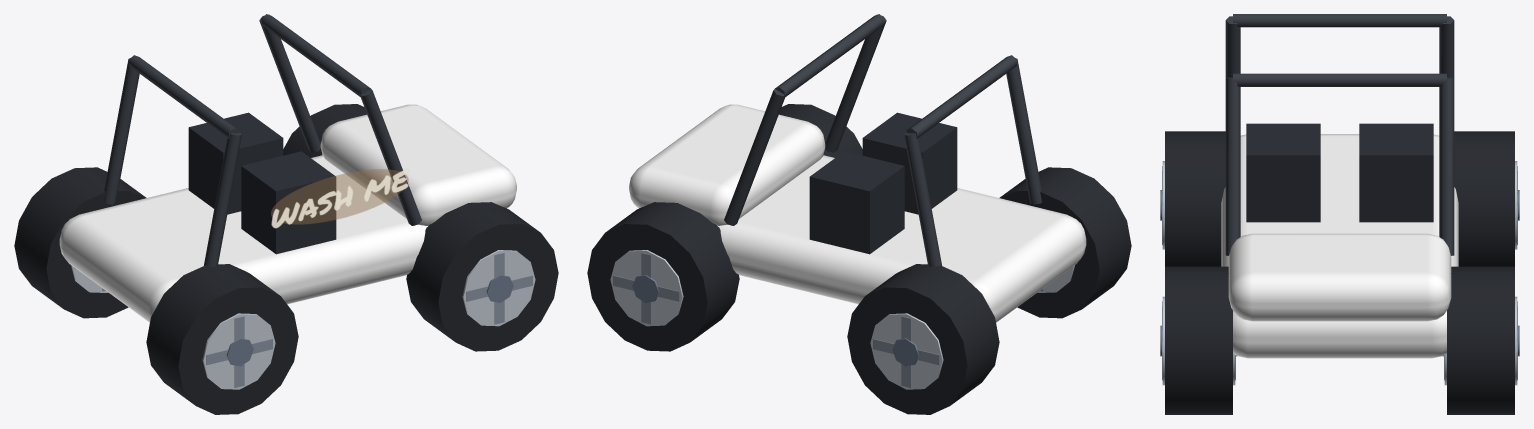
File: car_buggy.glb
The picture shows the model from 3 angles, left to right: view 1: azimuth 30°, elevation 25°; view 2: azimuth 150°, elevation 25°; view 3: azimuth 270°, elevation 25°; orthographic projection. The views are drawn at different scales.
Visible parts, largest first — view 1: Paint, Trim, Wheel1, Wheel0, Wheel3, WashMe, Wheel2; view 2: Paint, Trim, Wheel3, Wheel2, Wheel1, Wheel0; view 3: Paint, Trim, Wheel0, Wheel2, Wheel1, Wheel3.
Part boxes in pixels (<box>): Paint: <box>59,104,516,322</box>; Trim: <box>104,14,421,266</box>; Wheel1: <box>146,264,298,414</box>; Wheel0: <box>406,202,558,351</box>; Wheel3: <box>14,167,146,318</box>; WashMe: <box>271,169,409,228</box>; Wheel2: <box>283,104,366,157</box>; Paint: <box>629,104,1086,322</box>; Trim: <box>724,14,1041,266</box>; Wheel3: <box>847,264,999,414</box>; Wheel2: <box>587,202,739,351</box>; Wheel1: <box>999,167,1131,318</box>; Wheel0: <box>779,104,862,157</box>; Paint: <box>1221,134,1458,358</box>; Trim: <box>1225,14,1454,255</box>; Wheel0: <box>1160,266,1236,414</box>; Wheel2: <box>1443,266,1519,414</box>; Wheel1: <box>1160,131,1225,266</box>; Wheel3: <box>1454,131,1519,266</box>.
Bounding box in the file's own units: 3.16 × 2.1 × 2.42.
7 materials, 1 textured.
